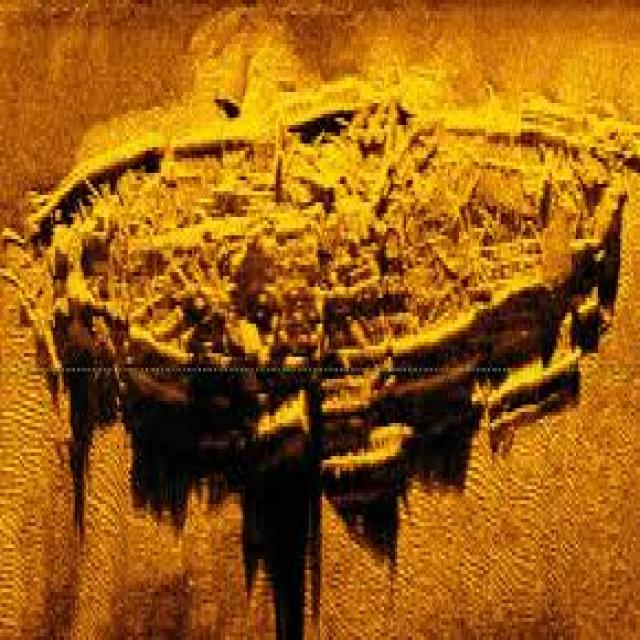ship: (42, 96, 624, 448)
